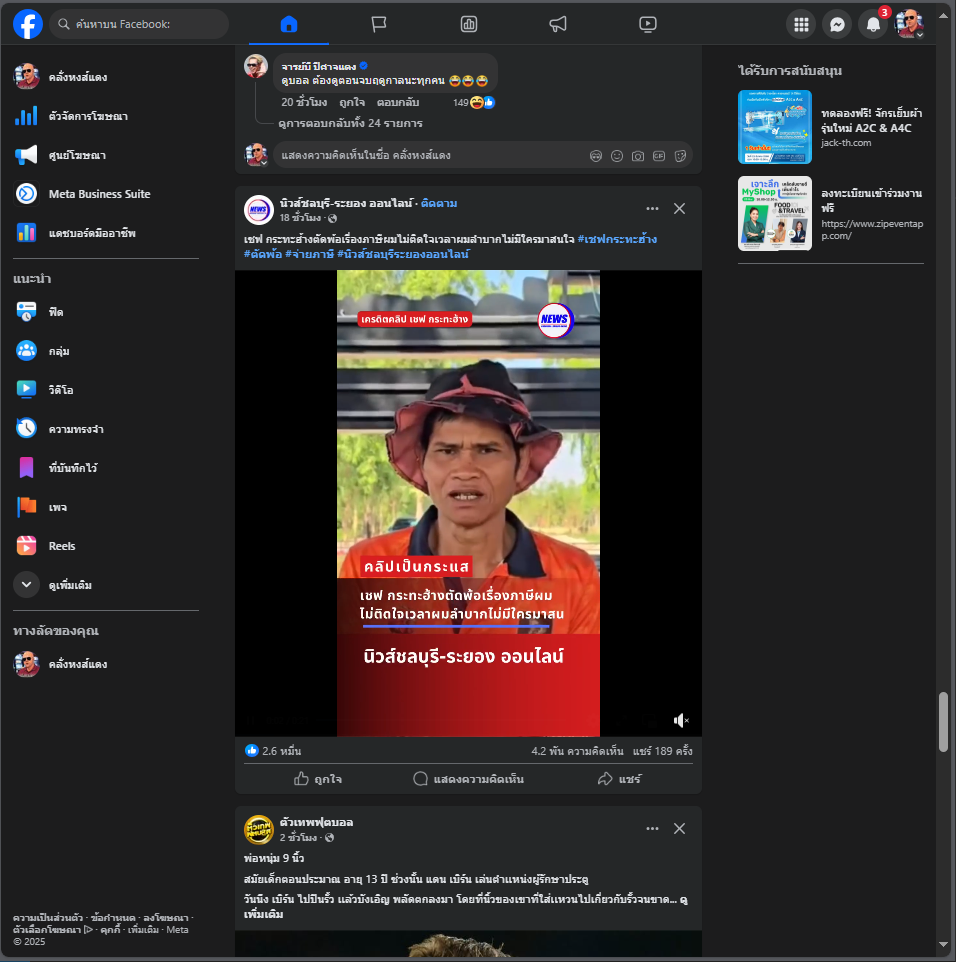topic: (235, 178, 702, 798), (236, 806, 703, 962)
